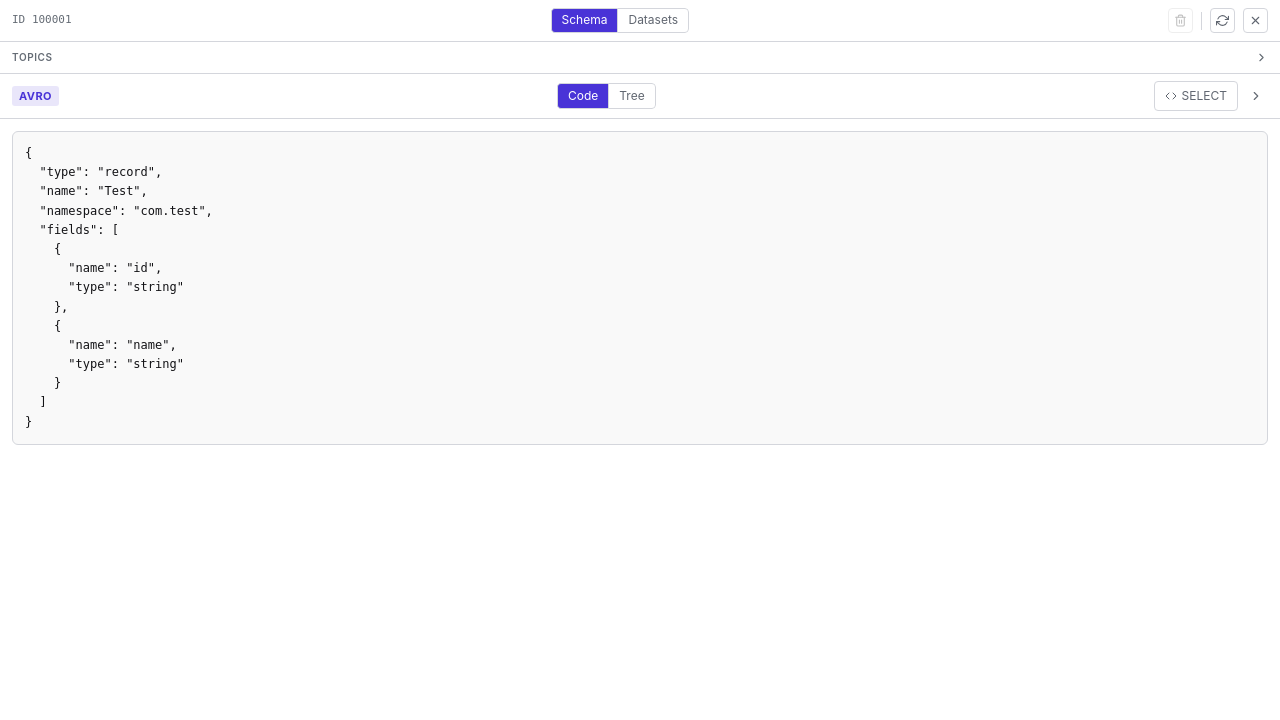
[@schema-detail-coverage] topics section › topics section shows "unavailable while editing" when in edit mode
Expected: the text "Topics" is shown, x1=12 y1=50 x2=53 y2=65
Click the button "Topics". click: coordinates (32, 57)
box: x1=12 y1=51 x2=1268 y2=64
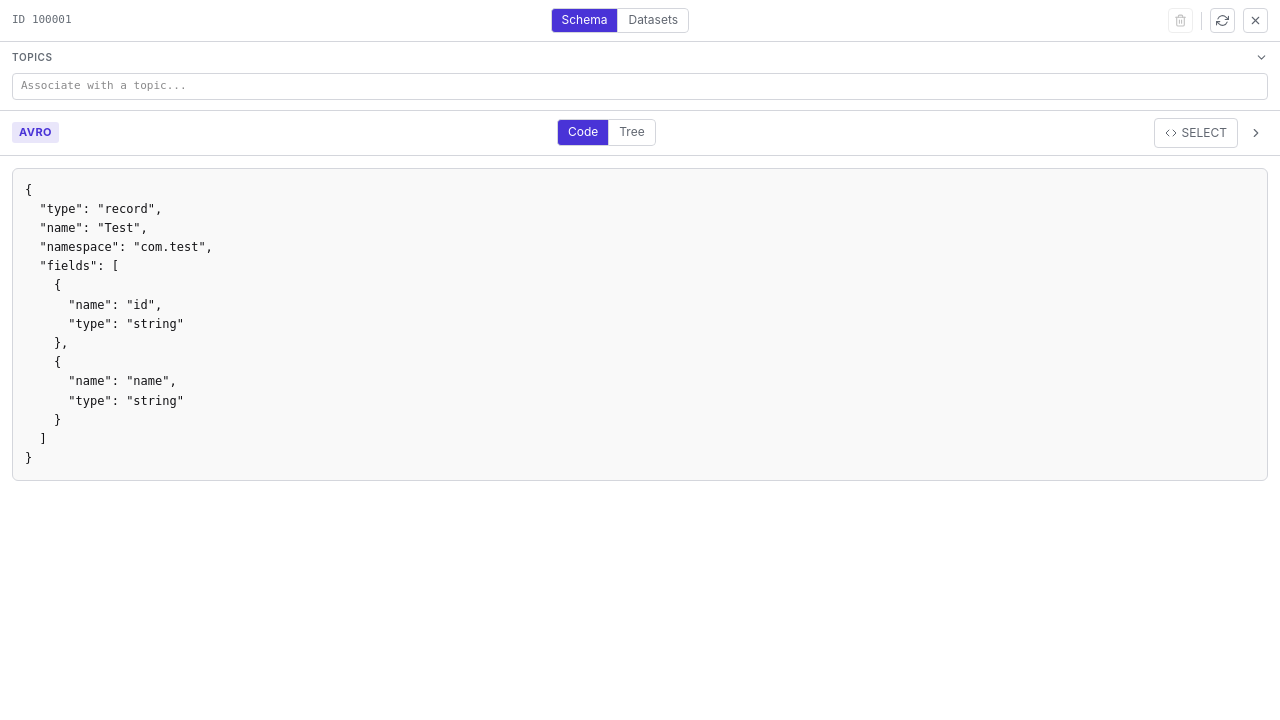
Now the dropdown with placeholder "Associate with a topic..." is shown, box x1=12 y1=73 x2=1268 y2=100
Click the button named "toggle schema controls". click: coordinates (1256, 132)
box: x1=1244 y1=120 x2=1268 y2=144
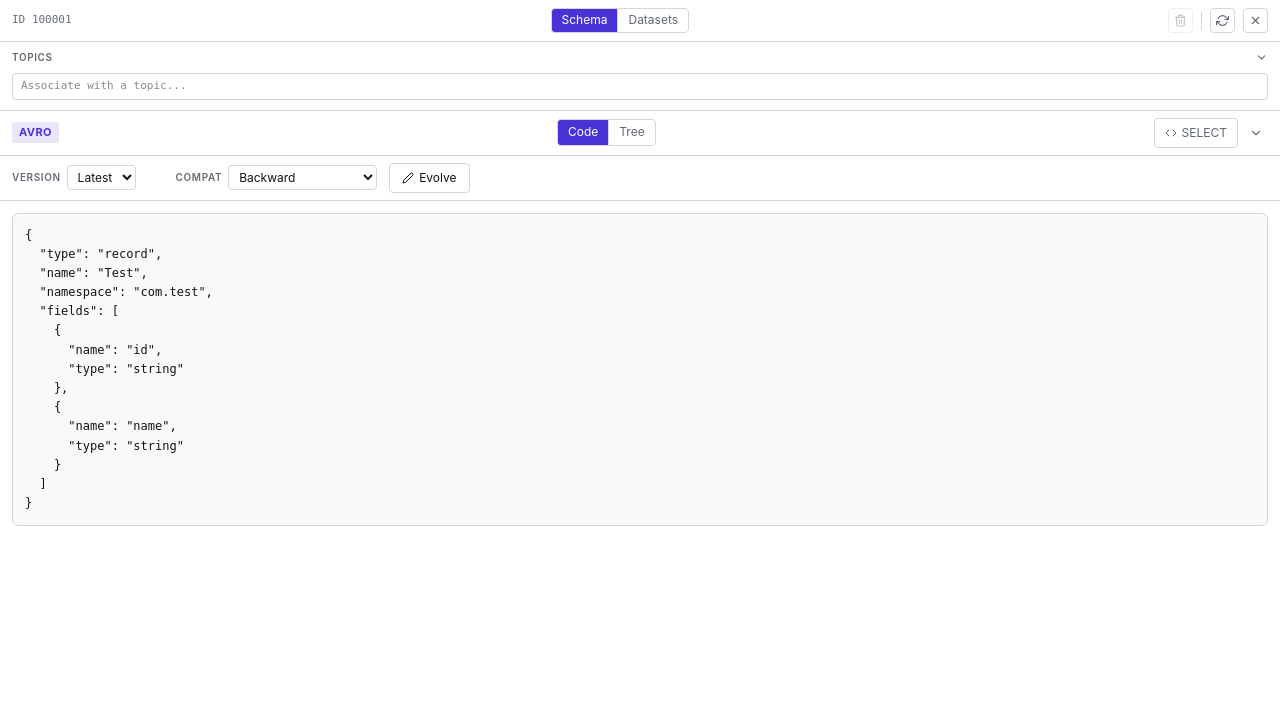
Now the dropdown named "select schema version" is shown, box x1=67 y1=165 x2=136 y2=190
Click the button with aria-label "evolve schema". click: coordinates (429, 178)
box: x1=389 y1=162 x2=470 y2=192
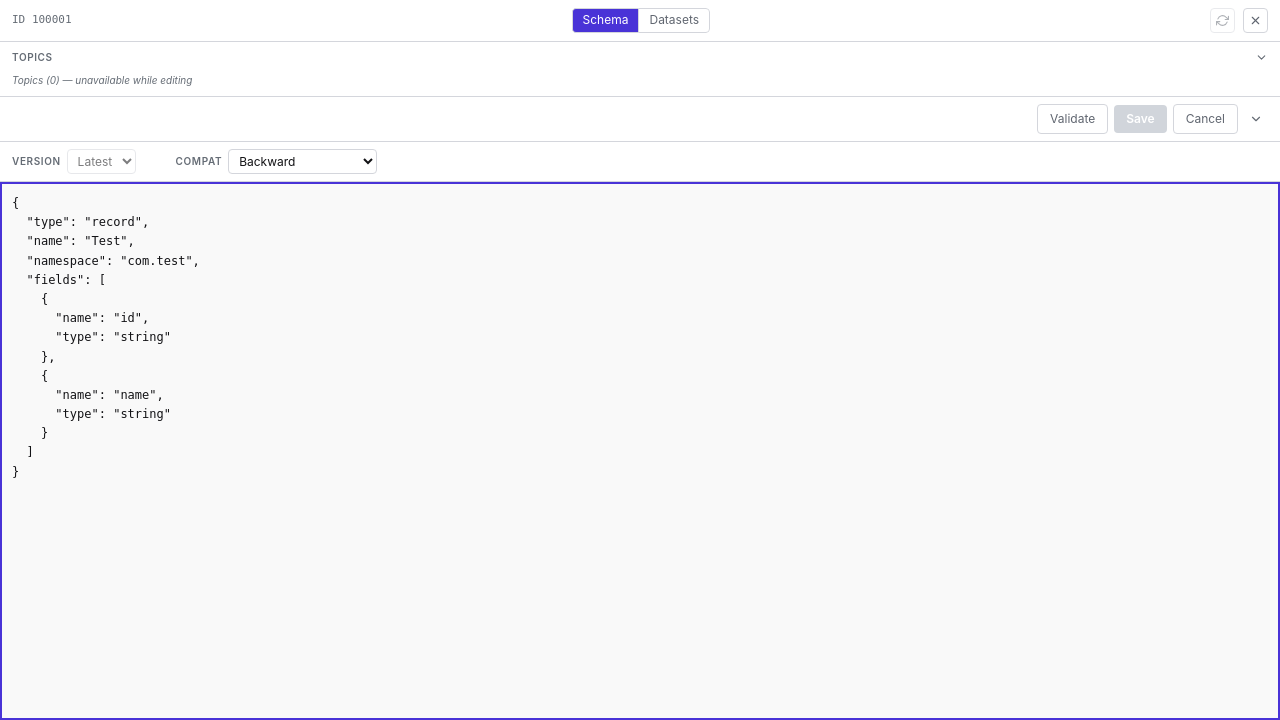
Now the text "Topics (0) — unavailable while editing" is shown, box x1=12 y1=74 x2=192 y2=86
